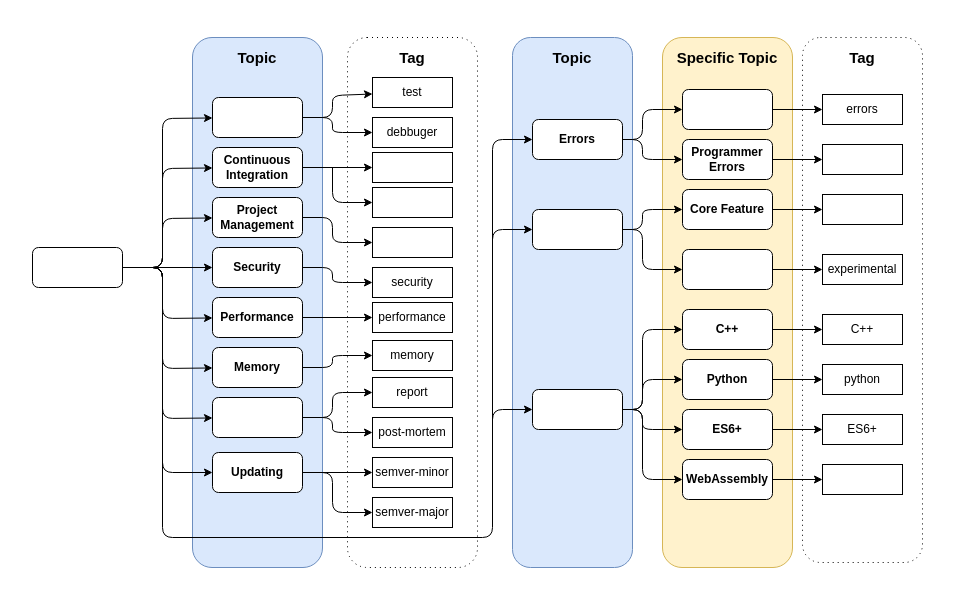
This 960x605 diagram has some shape labels left out. The shapes that lost their labels are listed below. From the top down, each one's centre as x and y in pixels, then its label:
(x=257, y=117): Testing
(x=727, y=109): Operational Errors
(x=412, y=167): Cl/flaky test
(x=862, y=159): confirmed-bug
(x=412, y=202): build
(x=862, y=209): feature request
(x=412, y=242): meta
(x=577, y=229): Features
(x=77, y=267): Type
(x=727, y=269): New Feature
(x=257, y=417): Diagnostics
(x=577, y=409): Programming Language
(x=862, y=479): wasm
